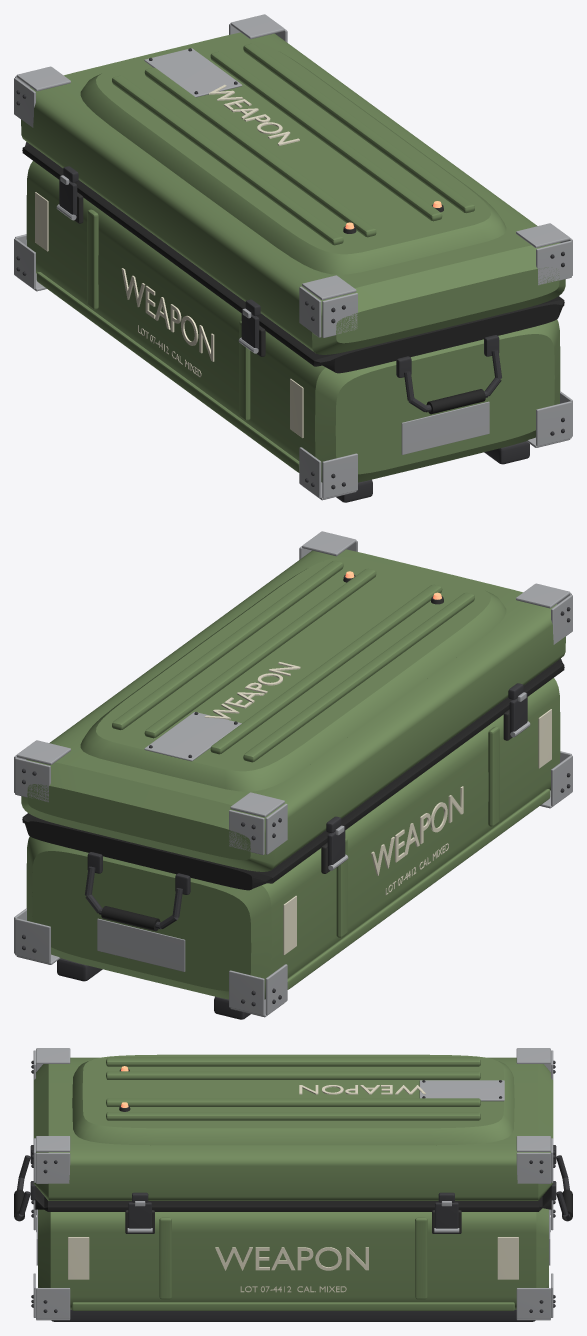
The model's file is crate_weapon.glb.
3 views of the same model, one above another, from view 1: azimuth 30°, elevation 25°; view 2: azimuth 150°, elevation 25°; view 3: azimuth 270°, elevation 25° (orthographic). The views are drawn at different scales.
Visible parts, largest first — view 1: Body; view 2: Body; view 3: Body.
Part boxes in pixels (<box>): Body: <box>14,14,572,502</box>; Body: <box>14,531,572,1019</box>; Body: <box>14,1048,572,1321</box>.
Size of the model in its own units: 0.636 by 0.516 by 1.31.
